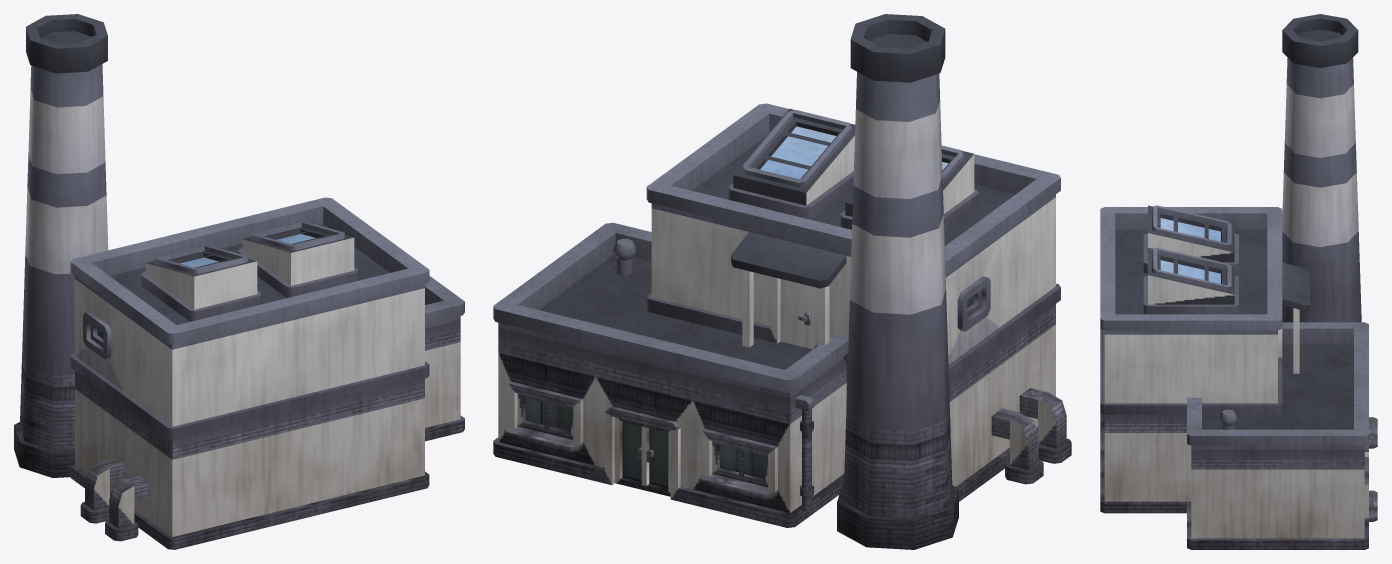
The model's file is building-f-white.glb.
3 views of the same model, side by side, from view 1: azimuth 30°, elevation 25°; view 2: azimuth 150°, elevation 25°; view 3: azimuth 270°, elevation 25° (orthographic). The views are drawn at different scales.
Visible parts, largest first — view 1: building-f; view 2: building-f; view 3: building-f.
Part boxes in pixels (x1=…): building-f: x1=14, y1=14, x2=464, y2=549; building-f: x1=493, y1=14, x2=1071, y2=549; building-f: x1=1100, y1=14, x2=1377, y2=549.
Bounding box in the file's own units: 1.79 × 1.92 × 1.28.
1 material, 1 textured.
